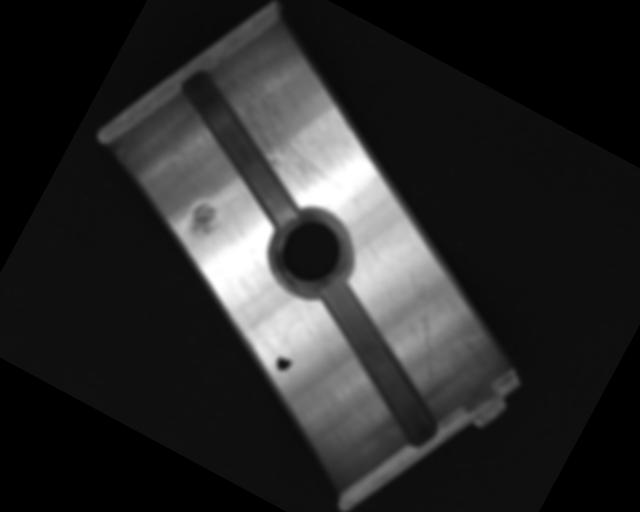blot: (272, 352, 294, 375)
bruise: (184, 198, 225, 241)
gap: (279, 275, 479, 452), (145, 64, 337, 230)
hole: (256, 195, 367, 310)
nick: (368, 270, 476, 385)
scratch: (189, 34, 385, 208)
